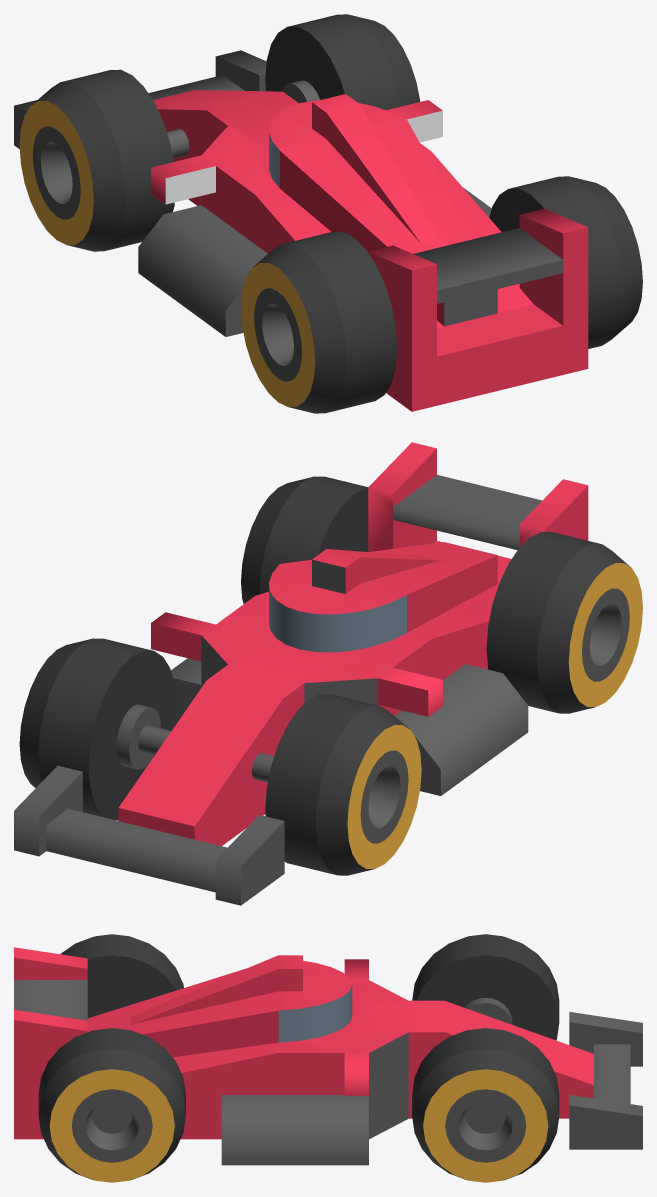
Rendered from race.glb.
3 views of the same model, one above another, from view 1: azimuth 30°, elevation 25°; view 2: azimuth 150°, elevation 25°; view 3: azimuth 270°, elevation 25° (orthographic). The views are drawn at different scales.
Visible parts, largest first — view 1: body, wheel_backLeft, wheel_frontLeft, wheel_backRight, wheel_frontRight; view 2: body, wheel_frontLeft, wheel_backLeft, wheel_frontRight, wheel_backRight; view 3: body, wheel_backRight, wheel_frontRight, wheel_frontLeft, wheel_backLeft.
Part boxes in pixels (x1=…): body: x1=14, y1=50, x2=588, y2=411; wheel_backLeft: x1=241, y1=231, x2=397, y2=413; wheel_frontLeft: x1=19, y1=69, x2=174, y2=251; wheel_backRight: x1=489, y1=176, x2=642, y2=348; wheel_frontRight: x1=265, y1=14, x2=420, y2=110; body: x1=14, y1=442, x2=588, y2=905; wheel_frontLeft: x1=265, y1=694, x2=421, y2=875; wheel_backLeft: x1=486, y1=532, x2=642, y2=713; wheel_frontRight: x1=19, y1=638, x2=175, y2=820; wheel_backRight: x1=241, y1=476, x2=368, y2=603; body: x1=14, y1=947, x2=642, y2=1165; wheel_backRight: x1=38, y1=1028, x2=185, y2=1182; wheel_frontRight: x1=412, y1=1028, x2=559, y2=1182; wheel_frontLeft: x1=412, y1=934, x2=559, y2=1040; wheel_backLeft: x1=60, y1=934, x2=183, y2=1018.
Size of the model in its own units: 1.3 by 0.7325 by 2.56.
